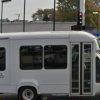Bus: (3, 27, 95, 97)
